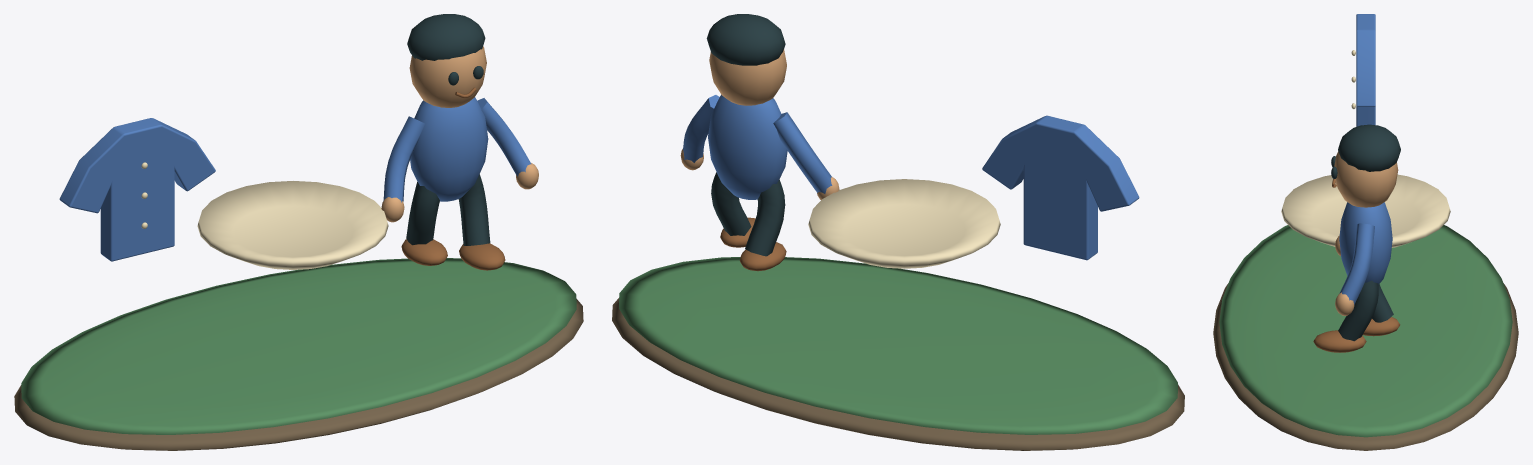
Rendered from attendant-duty.glb.
The picture shows the model from 3 angles, left to right: view 1: azimuth 30°, elevation 25°; view 2: azimuth 150°, elevation 25°; view 3: azimuth 270°, elevation 25°; orthographic projection. The views are drawn at different scales.
Parts seen in each view (by area): view 1: attendant-duty_surface_01, attendant-duty_surface_02, attendant-duty_surface_03, attendant-duty_surface_00, attendant-duty_surface_05, attendant-duty_surface_04, attendant-duty_surface_06; view 2: attendant-duty_surface_01, attendant-duty_surface_02, attendant-duty_surface_03, attendant-duty_surface_00, attendant-duty_surface_05, attendant-duty_surface_04, attendant-duty_surface_06; view 3: attendant-duty_surface_01, attendant-duty_surface_03, attendant-duty_surface_02, attendant-duty_surface_00, attendant-duty_surface_05, attendant-duty_surface_04, attendant-duty_surface_06.
Boxes of the visible parts, box(x1,y1,x2,y2) form: attendant-duty_surface_01: box(21, 258, 576, 434); attendant-duty_surface_02: box(59, 97, 531, 261); attendant-duty_surface_03: box(141, 162, 388, 269); attendant-duty_surface_00: box(14, 298, 583, 450); attendant-duty_surface_05: box(406, 14, 490, 245); attendant-duty_surface_04: box(381, 46, 538, 222); attendant-duty_surface_06: box(401, 87, 505, 270); attendant-duty_surface_01: box(619, 257, 1177, 434); attendant-duty_surface_02: box(683, 94, 1139, 260); attendant-duty_surface_03: box(808, 179, 1000, 268); attendant-duty_surface_00: box(612, 298, 1184, 450); attendant-duty_surface_05: box(706, 14, 785, 256); attendant-duty_surface_04: box(680, 49, 839, 199); attendant-duty_surface_06: box(720, 217, 786, 271); attendant-duty_surface_01: box(1219, 225, 1512, 437); attendant-duty_surface_03: box(1281, 50, 1450, 247); attendant-duty_surface_02: box(1339, 14, 1392, 304); attendant-duty_surface_00: box(1213, 283, 1518, 450); attendant-duty_surface_05: box(1331, 124, 1400, 341); attendant-duty_surface_04: box(1334, 151, 1398, 315); attendant-duty_surface_06: box(1313, 179, 1400, 352).
Size of the model in its own units: 4.56 by 2.55 by 2.5.
